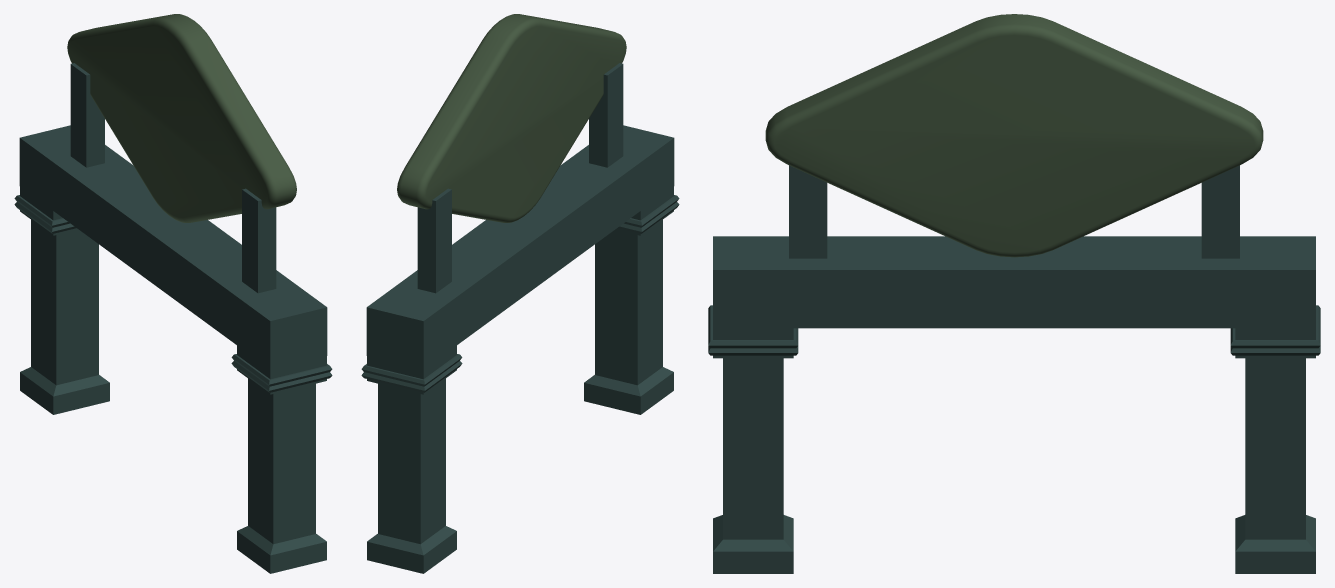
File: sehirgiris2.fbx
The picture shows the model from 3 angles, left to right: view 1: azimuth 30°, elevation 25°; view 2: azimuth 150°, elevation 25°; view 3: azimuth 270°, elevation 25°; orthographic projection. The views are drawn at different scales.
Visible parts, largest first — view 1: Plane.001, Cube.004, Cube, Cube.005, Cube.002, Cube.001; view 2: Plane.001, Cube.004, Cube, Cube.005, Cube.002, Cube.001; view 3: Plane.001, Cube.004, Cube, Cube.005, Cube.002, Cube.001.
Part boxes in pixels (box(x1,y1,x2,y2)): Plane.001: box(67, 14, 296, 222); Cube.004: box(19, 125, 327, 369); Cube: box(20, 220, 326, 573); Cube.005: box(70, 63, 276, 293); Cube.002: box(14, 195, 332, 392); Cube.001: box(20, 187, 326, 394); Plane.001: box(397, 14, 626, 222); Cube.004: box(366, 125, 674, 369); Cube: box(367, 220, 673, 573); Cube.005: box(417, 63, 623, 293); Cube.002: box(361, 195, 679, 392); Cube.001: box(367, 187, 673, 394); Plane.001: box(765, 14, 1263, 257); Cube.004: box(713, 236, 1315, 328); Cube: box(713, 358, 1315, 573); Cube.005: box(789, 165, 1239, 258); Cube.002: box(708, 305, 1320, 355); Cube.001: box(713, 328, 1315, 358).
Size of the model in its own units: 359 by 2439 by 2494.
